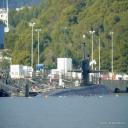submarine: (26, 40, 118, 96)
